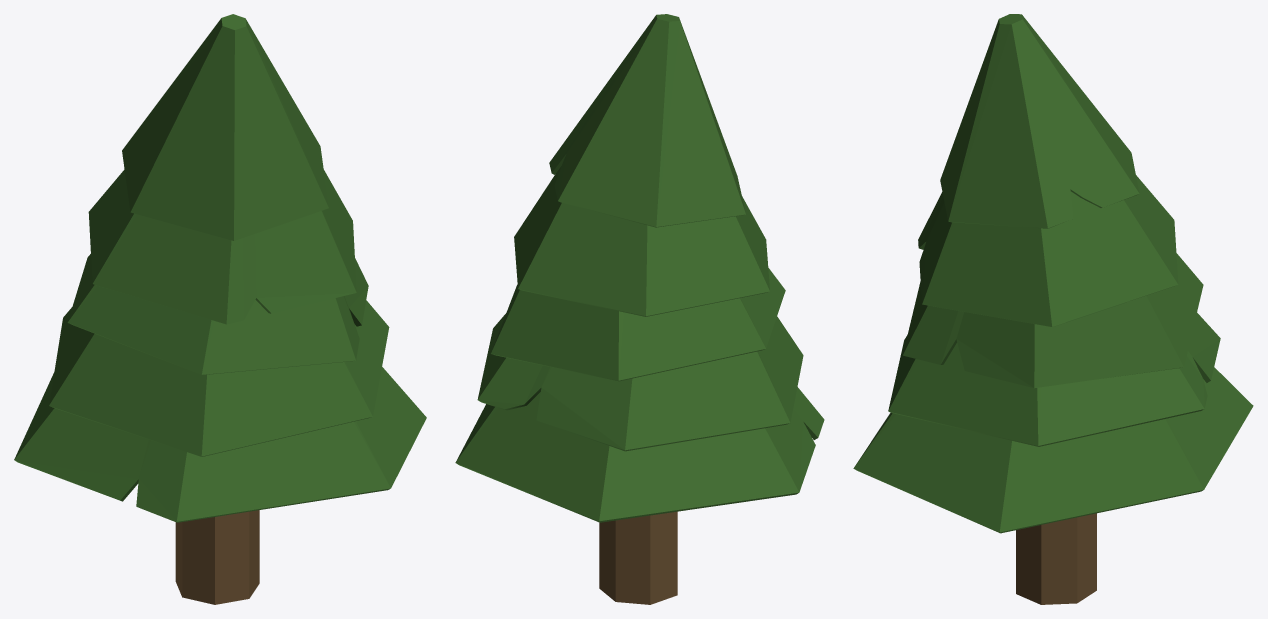
Rendered from Sapin_02.fbx.
3 renders of one model, left to right at view 1: azimuth 30°, elevation 25°; view 2: azimuth 150°, elevation 25°; view 3: azimuth 270°, elevation 25°, orthographic. The views are drawn at different scales.
Visible parts, largest first — view 1: Sapin_02; view 2: Sapin_02; view 3: Sapin_02.
Boxes of the visible parts, x1,y1,x2,y2 form: Sapin_02: (14, 14, 426, 604); Sapin_02: (455, 14, 824, 604); Sapin_02: (853, 14, 1253, 604).
Size of the model in its own units: 366 by 559 by 356.
Materials: 1 (1 with a texture image).
